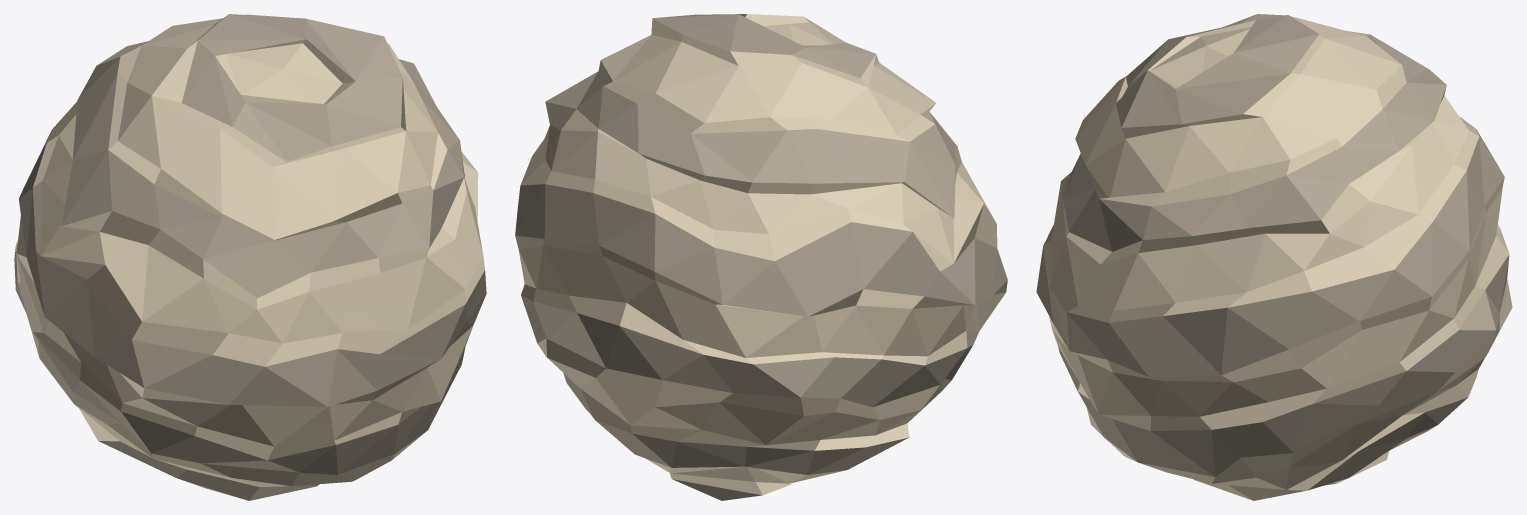
The model's file is jupiter.glb.
3 renders of one model, left to right at view 1: azimuth 30°, elevation 25°; view 2: azimuth 150°, elevation 25°; view 3: azimuth 270°, elevation 25°, orthographic.
Visible parts, largest first — view 1: Jupiter_Icosphere.006; view 2: Jupiter_Icosphere.006; view 3: Jupiter_Icosphere.006.
Boxes of the visible parts, box(x1,y1,x2,y2) form: Jupiter_Icosphere.006: box(14, 14, 486, 500); Jupiter_Icosphere.006: box(515, 14, 1007, 500); Jupiter_Icosphere.006: box(1036, 14, 1512, 500).
Size of the model in its own units: 4.02 by 3.96 by 3.89.
